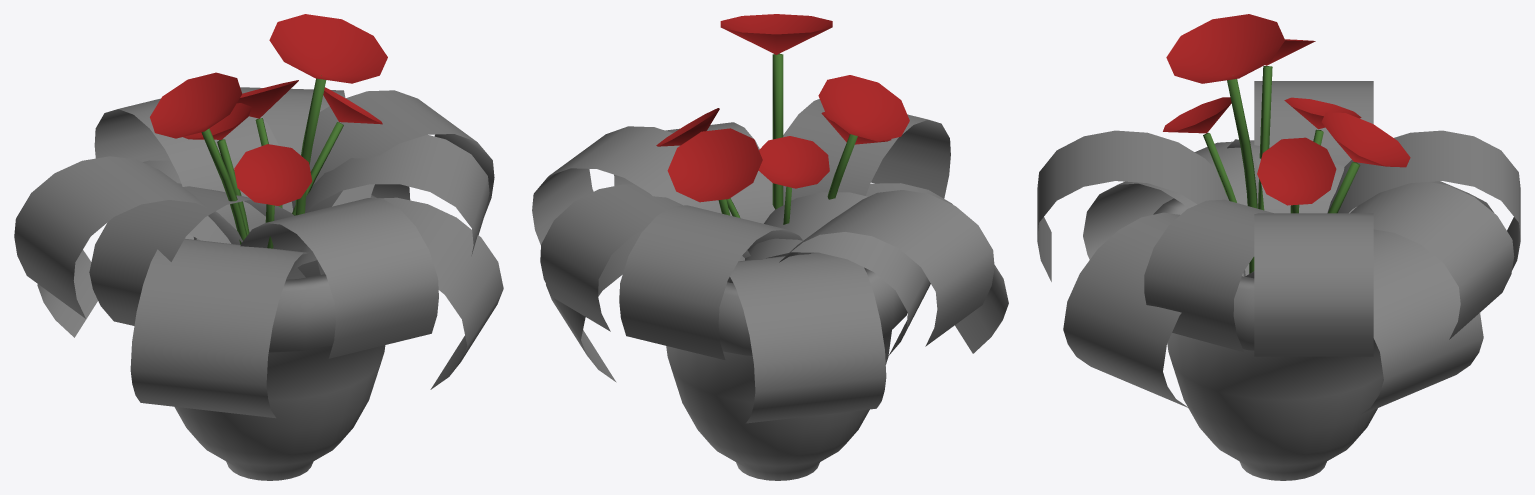
File: SM_flowerpot_03.fbx
3 views of the same model, side by side, from view 1: azimuth 30°, elevation 25°; view 2: azimuth 150°, elevation 25°; view 3: azimuth 270°, elevation 25° (orthographic). The views are drawn at different scales.
Parts seen in each view (by area): view 1: Object342690; view 2: Object342690; view 3: Object342690.
Part boxes in pixels (box(x1,y1,x2,y2)): Object342690: box(14, 14, 503, 480); Object342690: box(532, 14, 1008, 480); Object342690: box(1037, 14, 1520, 480).
Bounding box in the file's own units: 32.22 × 32.35 × 32.
